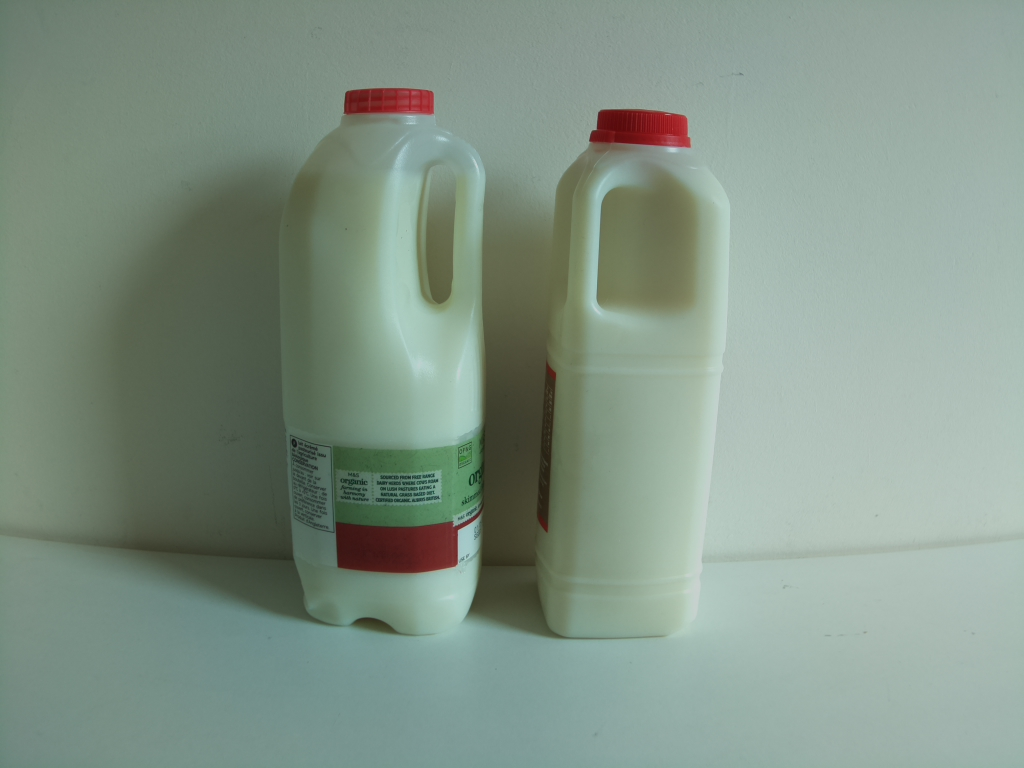milk: (270, 82, 491, 640), (533, 105, 736, 647)
